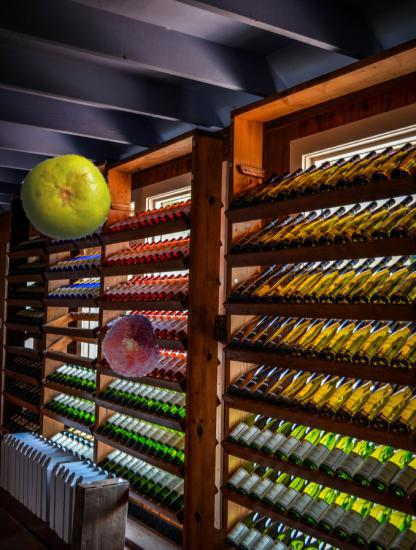Pomelo: (21, 152, 113, 244)
Salak: (99, 316, 162, 379)
